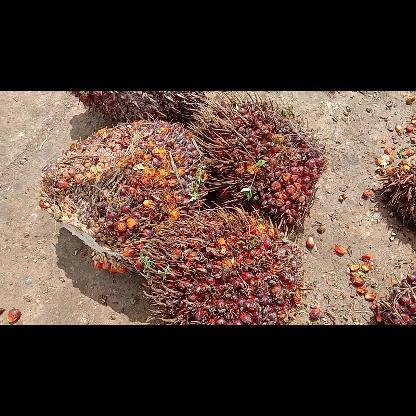TBS masak: (38, 116, 208, 272), (141, 204, 302, 324), (188, 90, 328, 226), (66, 91, 209, 125)
